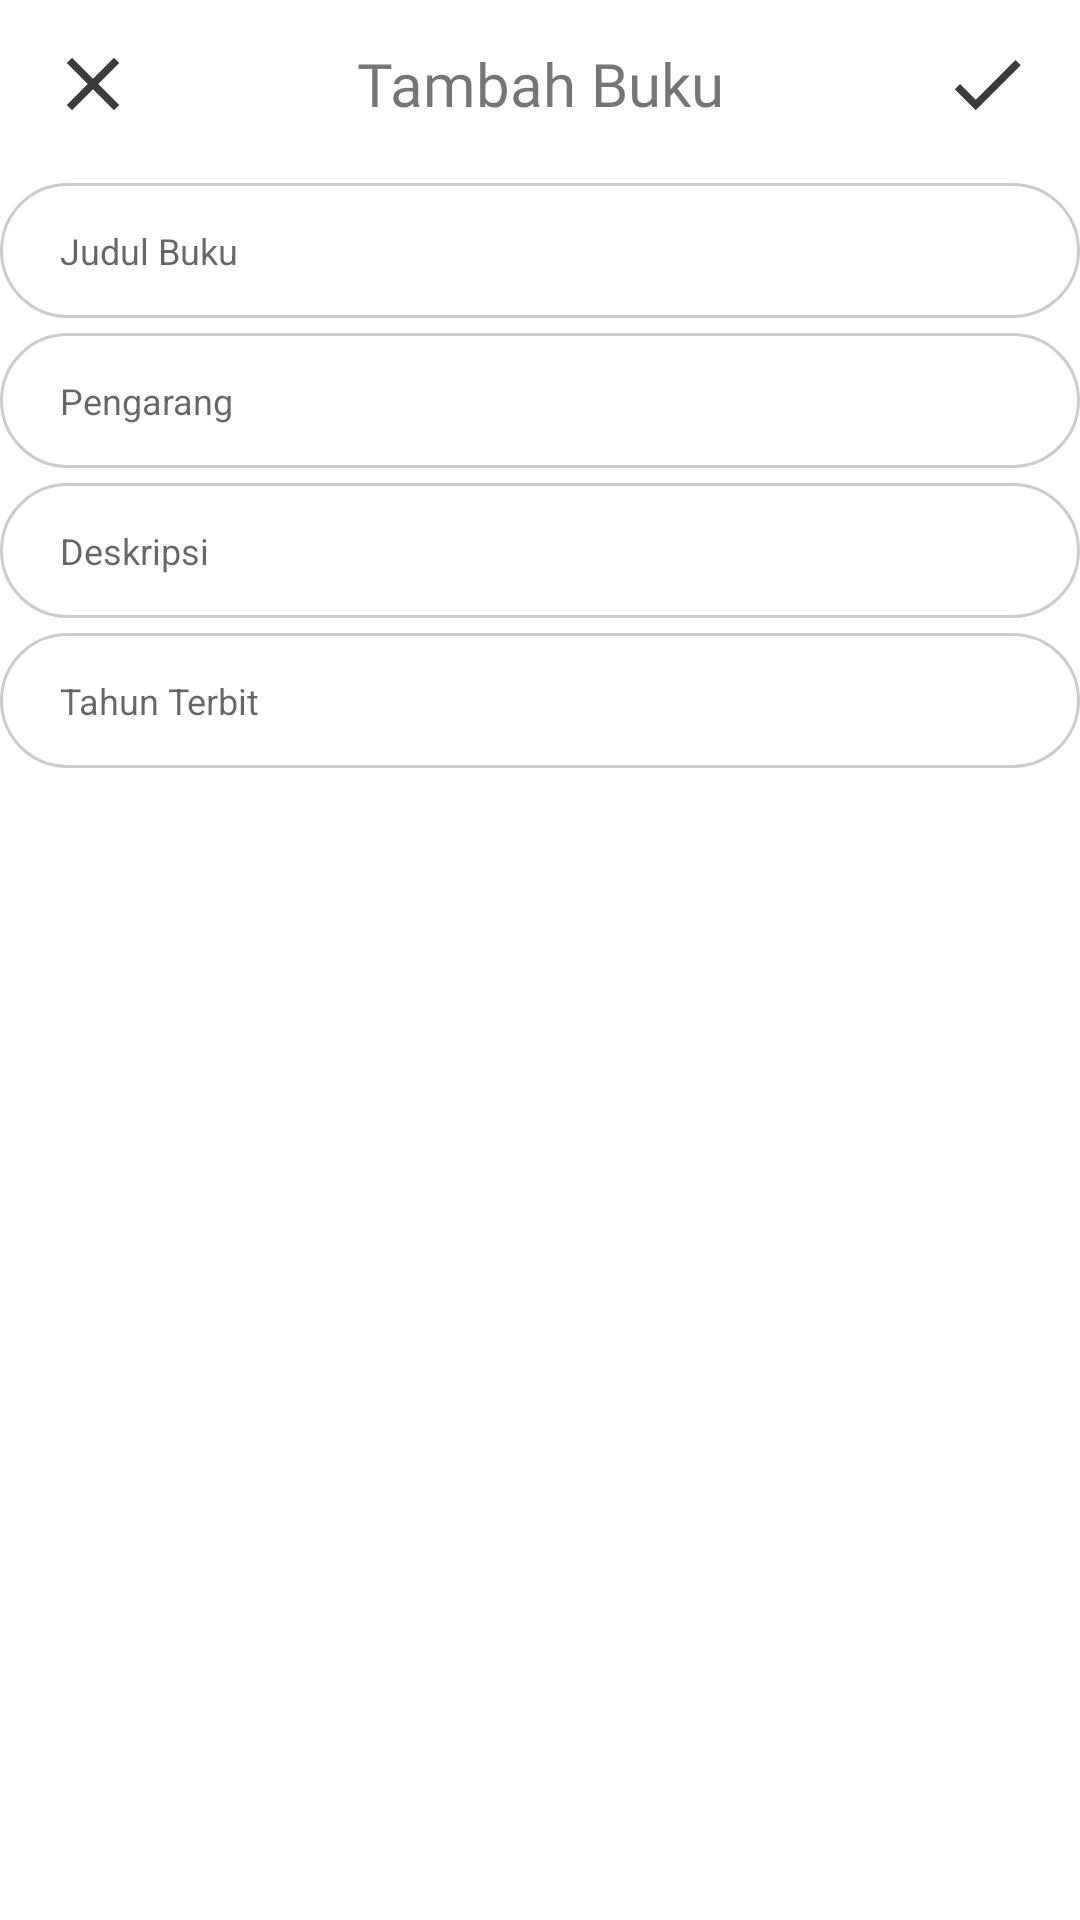

Icons on this 1080px×1920px Android screen, each with its box as (x1, y1, x2, y2):
check: (955, 60, 1021, 110)
clear: (67, 58, 119, 110)
